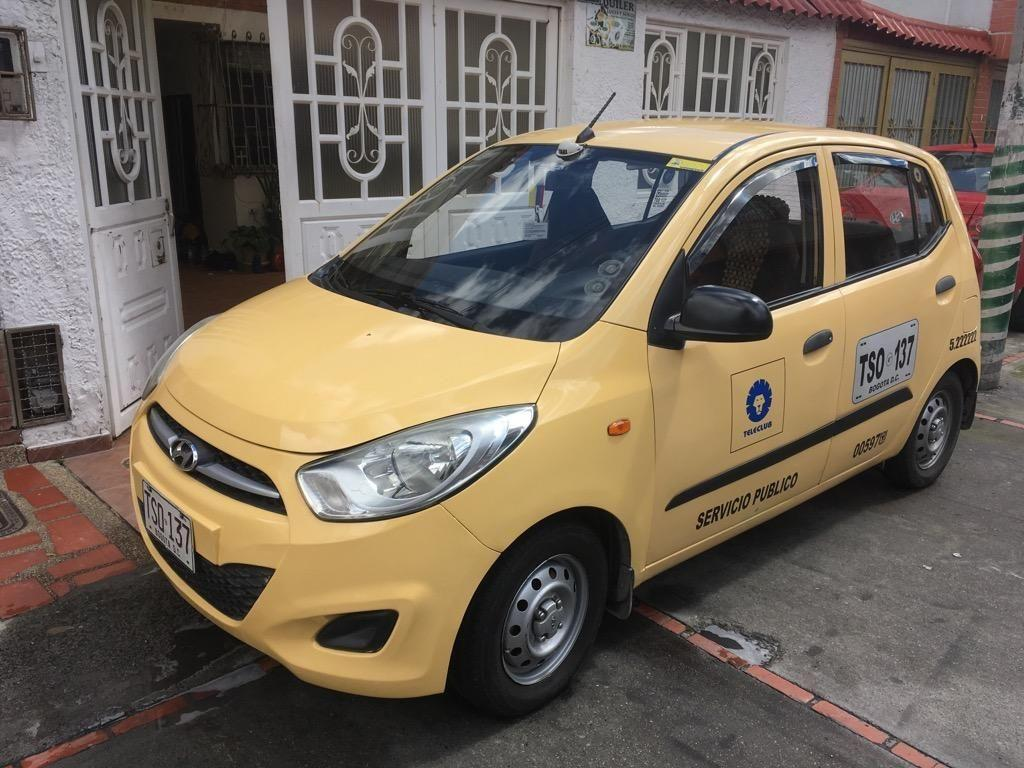taxi: (102, 81, 1019, 723)
